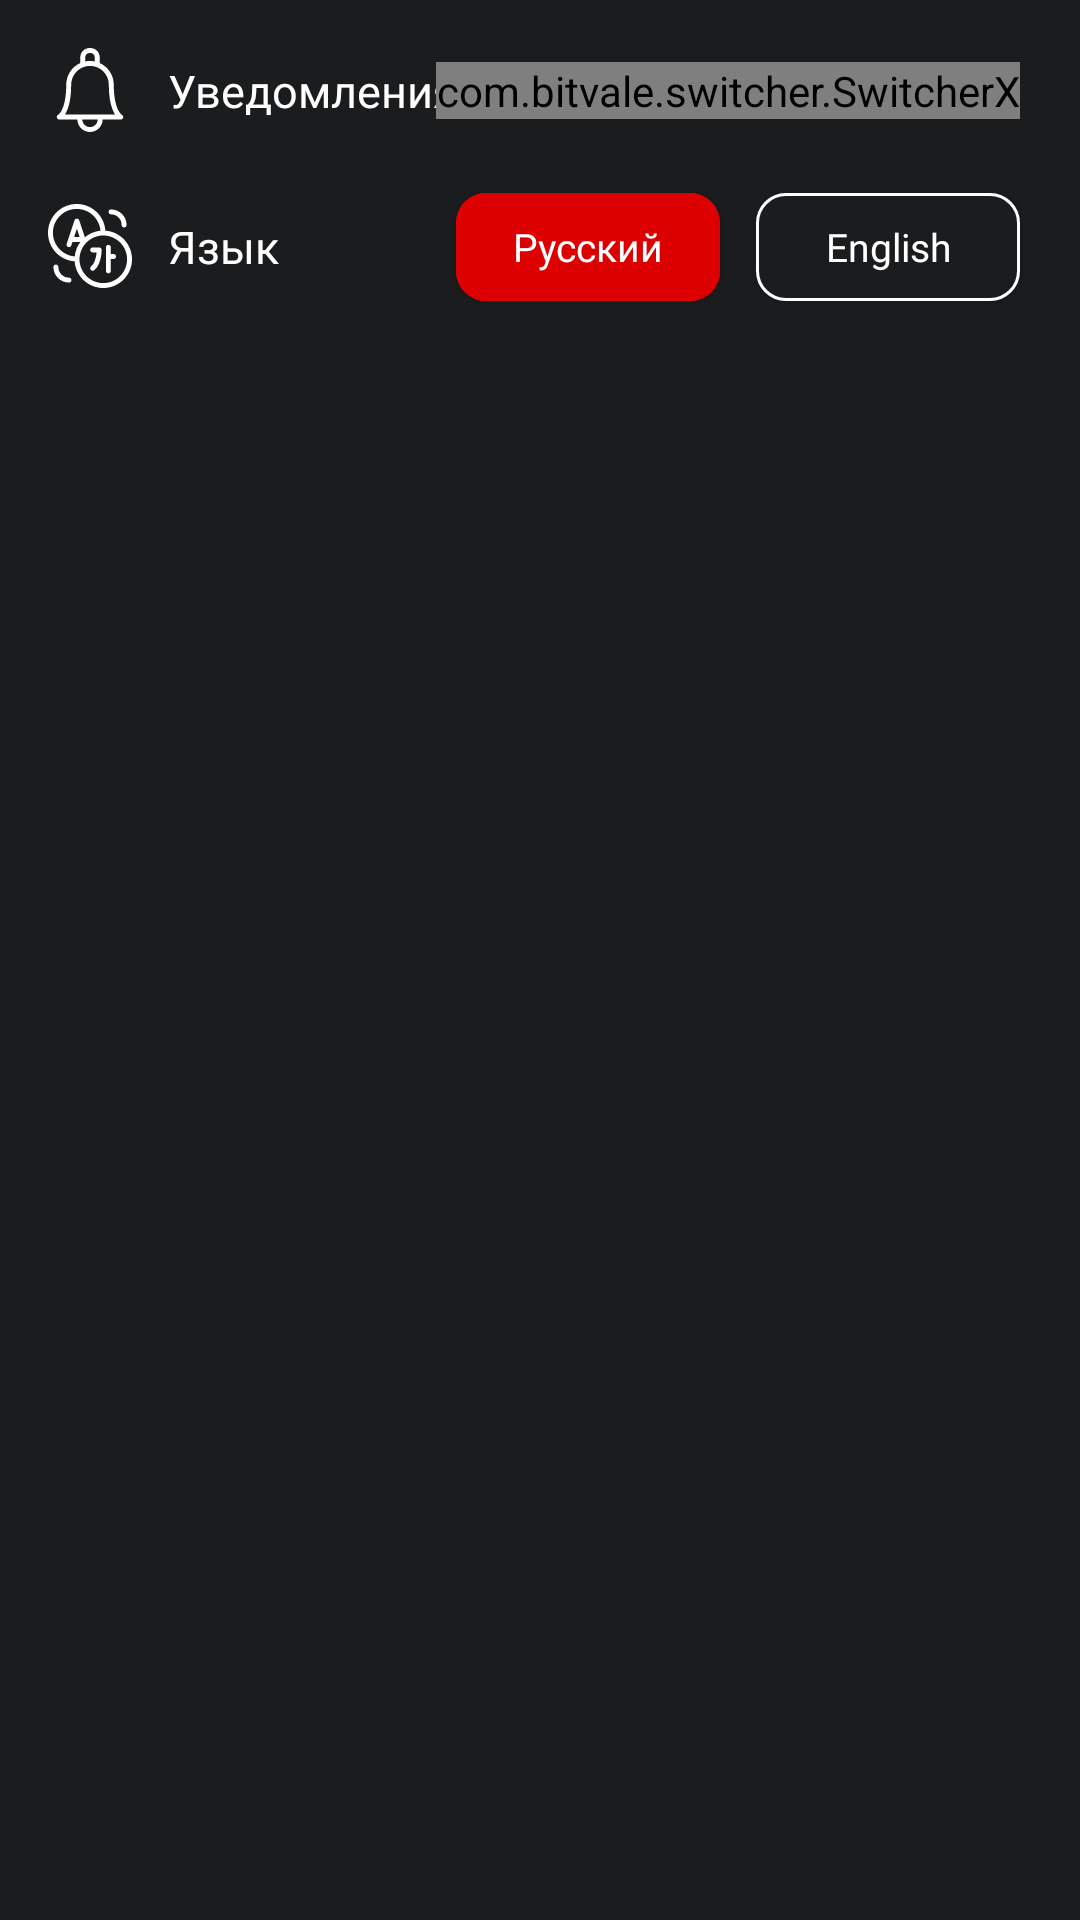

Point at icon controls on the screen. Image size 1080px x 1920px, points as point (x, y).
notification: point (90, 90)
translation: point (90, 246)
